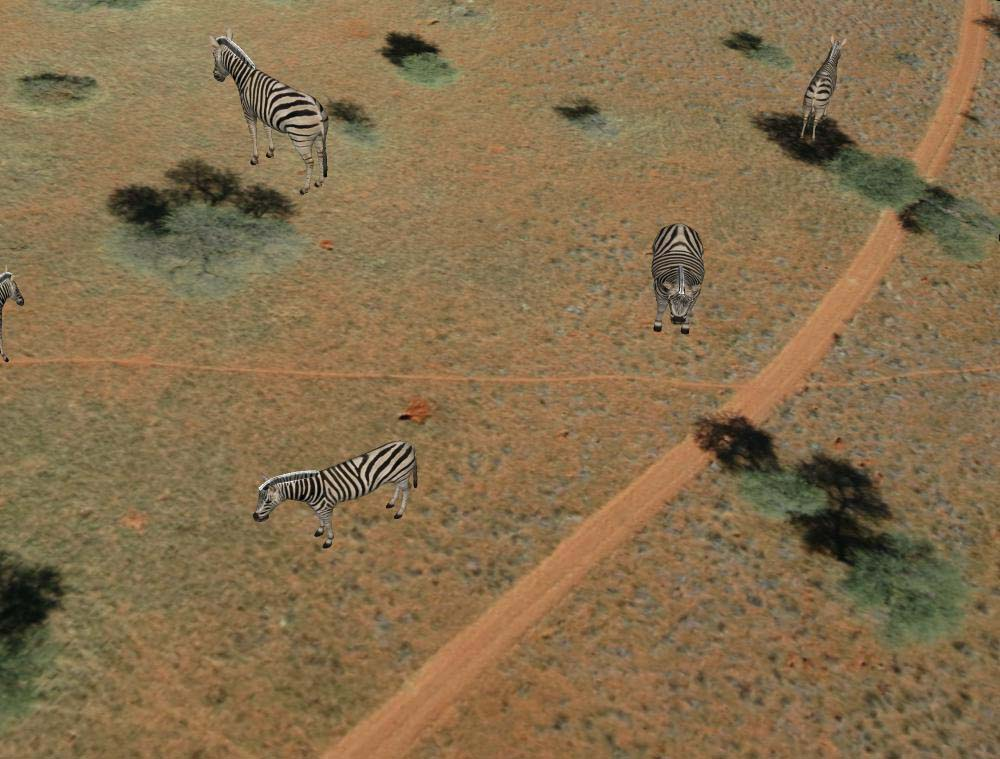zebra: (206, 29, 345, 192), (253, 442, 421, 545), (650, 216, 706, 337), (801, 31, 848, 145), (1, 277, 25, 364)
